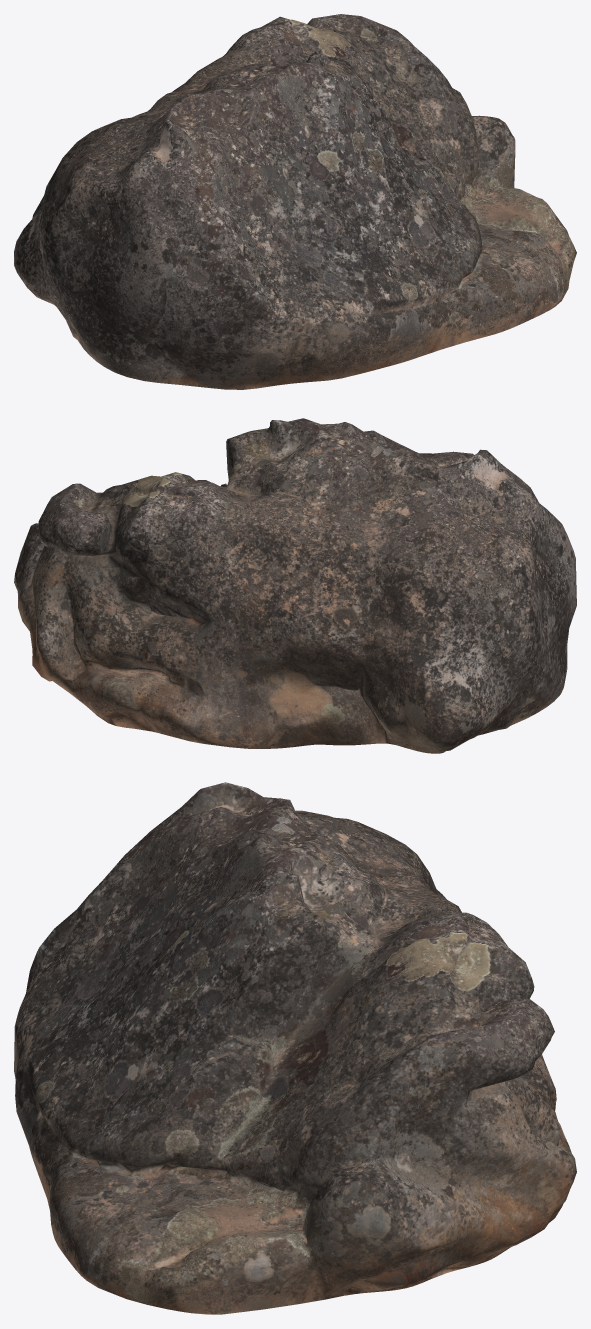
File: SM_yewicjg_tier_2.gltf
The picture shows the model from 3 angles, top to bottom: view 1: azimuth 30°, elevation 25°; view 2: azimuth 150°, elevation 25°; view 3: azimuth 270°, elevation 25°; orthographic projection. The views are drawn at different scales.
Parts seen in each view (by area): view 1: yewicjg_LOD2_TIER2_000; view 2: yewicjg_LOD2_TIER2_000; view 3: yewicjg_LOD2_TIER2_000.
Boxes of the visible parts, x1,y1,x2,y2 form: yewicjg_LOD2_TIER2_000: (14,14,576,389); yewicjg_LOD2_TIER2_000: (14,418,576,753); yewicjg_LOD2_TIER2_000: (14,782,576,1314).
Bounding box in the file's own units: 1.11 × 0.5232 × 0.8728.
1 material, 1 textured.
